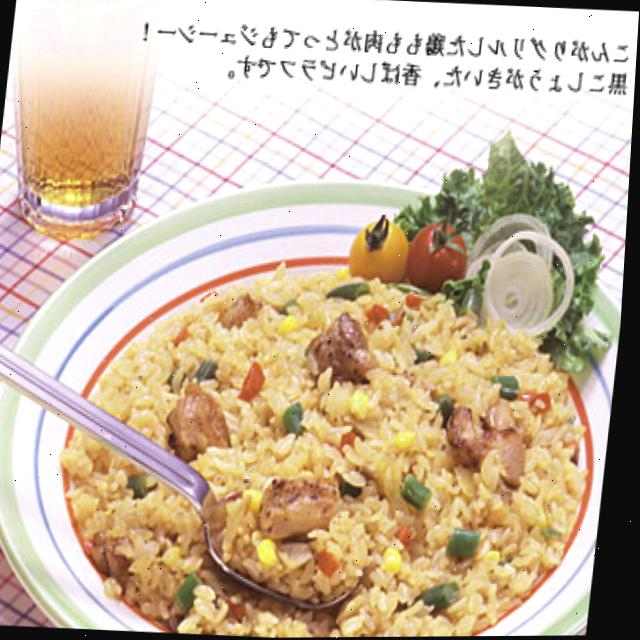米饭主食: (0, 149, 633, 640)
